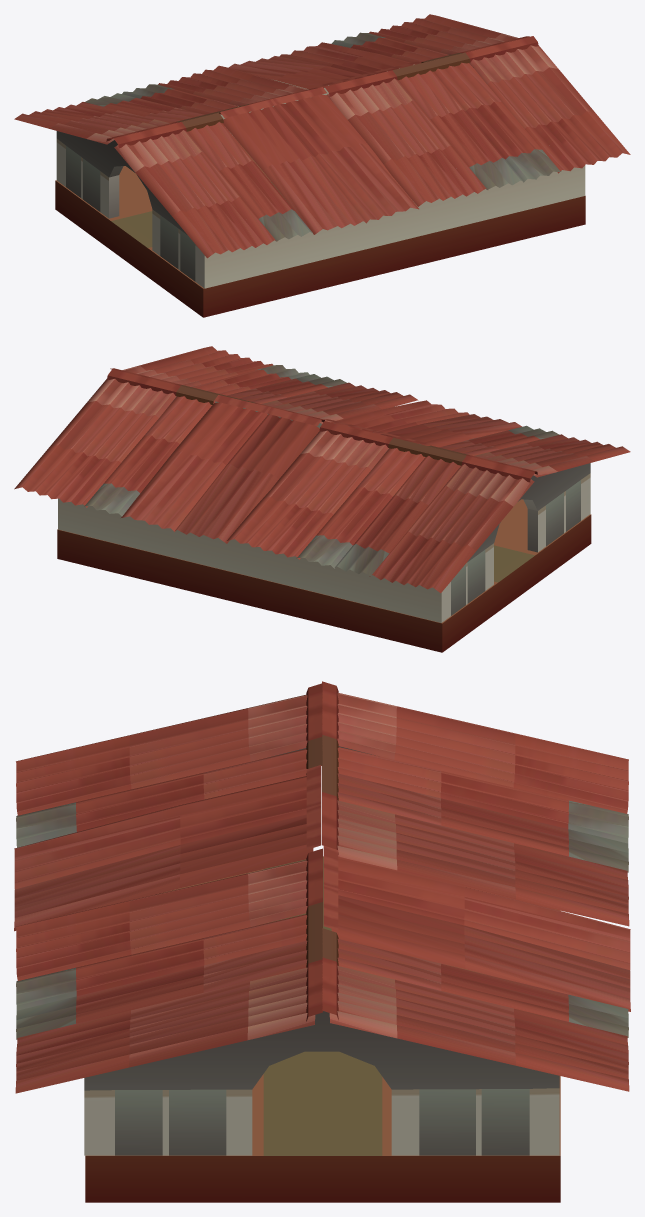
Rendered from SM_Pig_Farm_Combine_02.fbx.
The picture shows the model from 3 angles, top to bottom: view 1: azimuth 30°, elevation 25°; view 2: azimuth 150°, elevation 25°; view 3: azimuth 270°, elevation 25°; orthographic projection. The views are drawn at different scales.
Visible parts, largest first — view 1: Farm_Part_01.004; view 2: Farm_Part_01.004; view 3: Farm_Part_01.004.
Part boxes in pixels (bbox=[...]): Farm_Part_01.004: bbox=[14, 14, 630, 317]; Farm_Part_01.004: bbox=[14, 346, 630, 652]; Farm_Part_01.004: bbox=[14, 681, 630, 1202].
Bounding box in the file's own units: 219 × 64.16 × 171.
